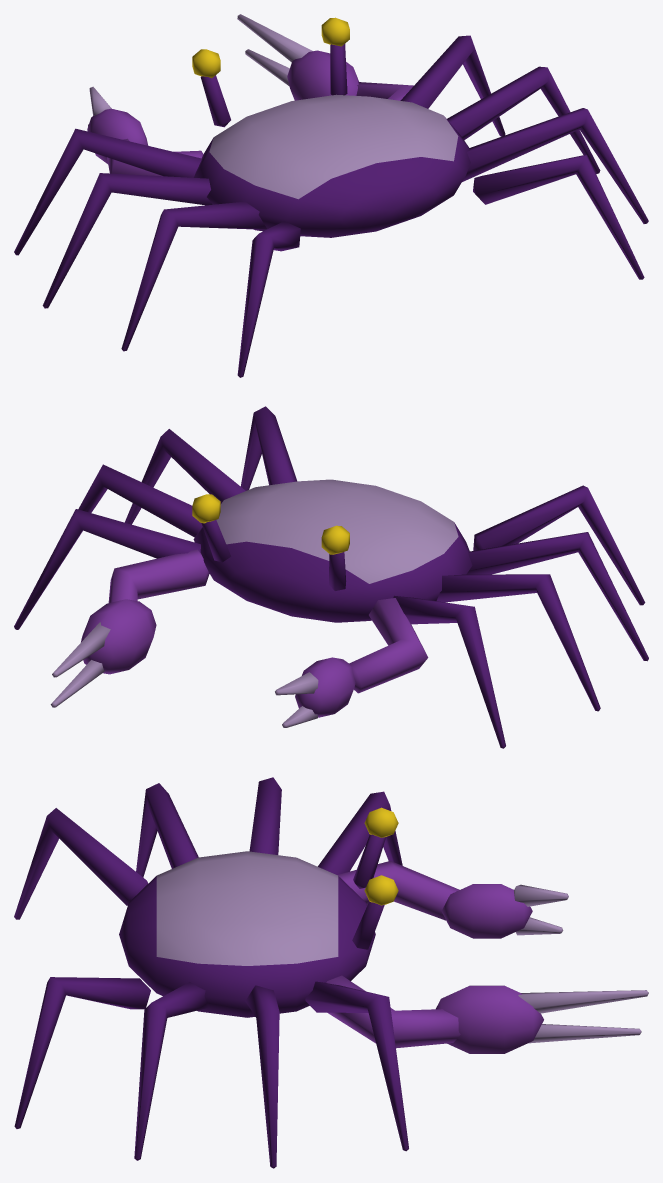
Rendered from vampire_crab.glb.
3 views of the same model, one above another, from view 1: azimuth 30°, elevation 25°; view 2: azimuth 150°, elevation 25°; view 3: azimuth 270°, elevation 25° (orthographic). The views are drawn at different scales.
Visible parts, largest first — view 1: vampire_crab; view 2: vampire_crab; view 3: vampire_crab.
Part boxes in pixels (x1,y1,x2,y2): vampire_crab: (14, 14, 648, 377); vampire_crab: (14, 406, 648, 748); vampire_crab: (14, 777, 648, 1168).
Size of the model in its own units: 2.41 by 0.7065 by 2.23.
